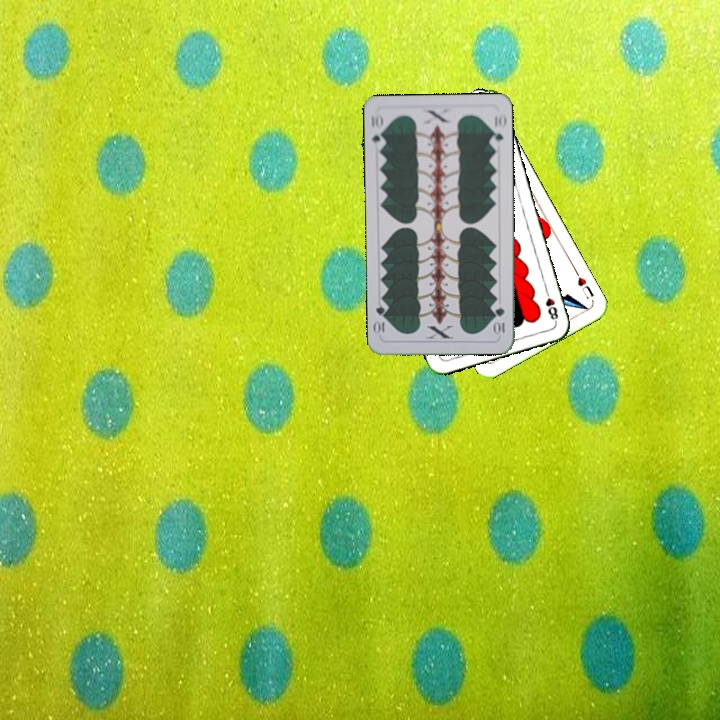G10: (367, 110, 387, 151), (491, 303, 507, 337)
H8: (541, 285, 561, 325)
HU: (571, 267, 596, 301)
